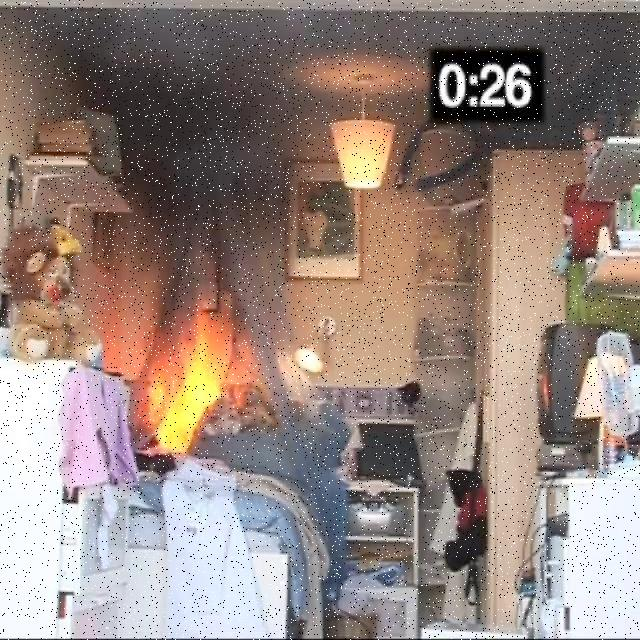fire: (142, 315, 228, 450)
light: (332, 104, 398, 196)
smoke: (96, 39, 324, 207)
